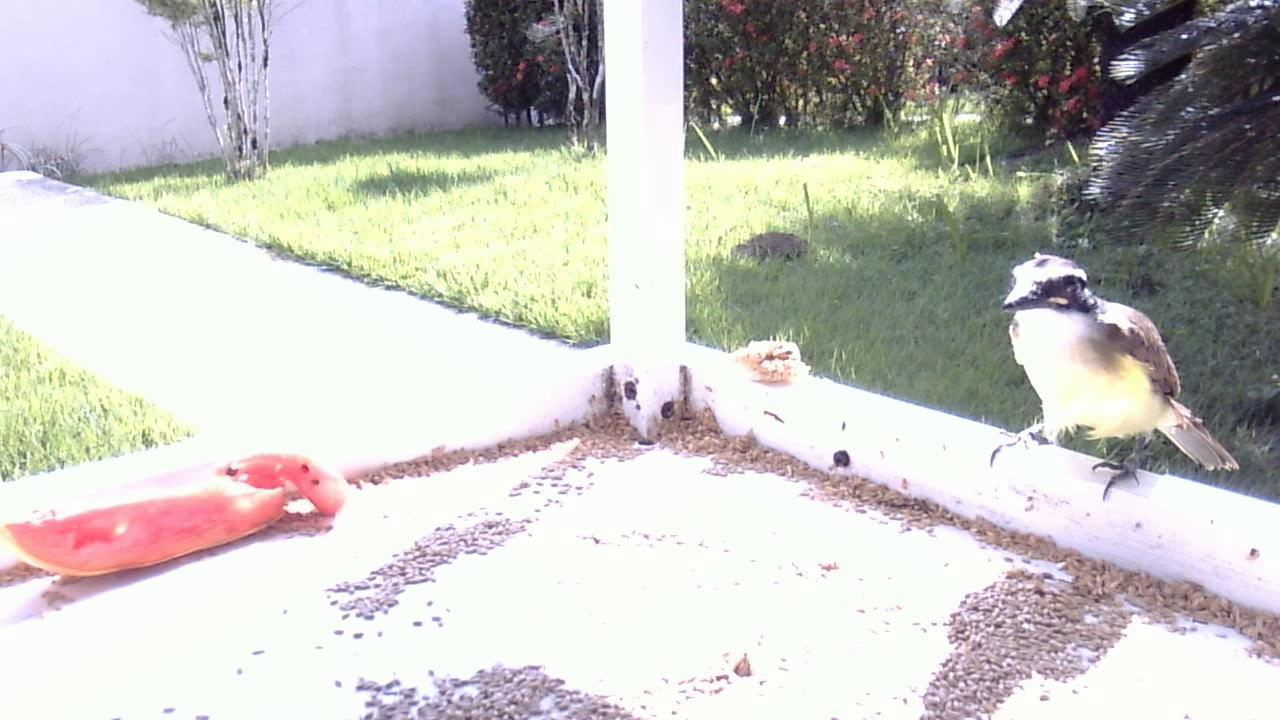bem_te_vi: (982, 248, 1250, 510)
